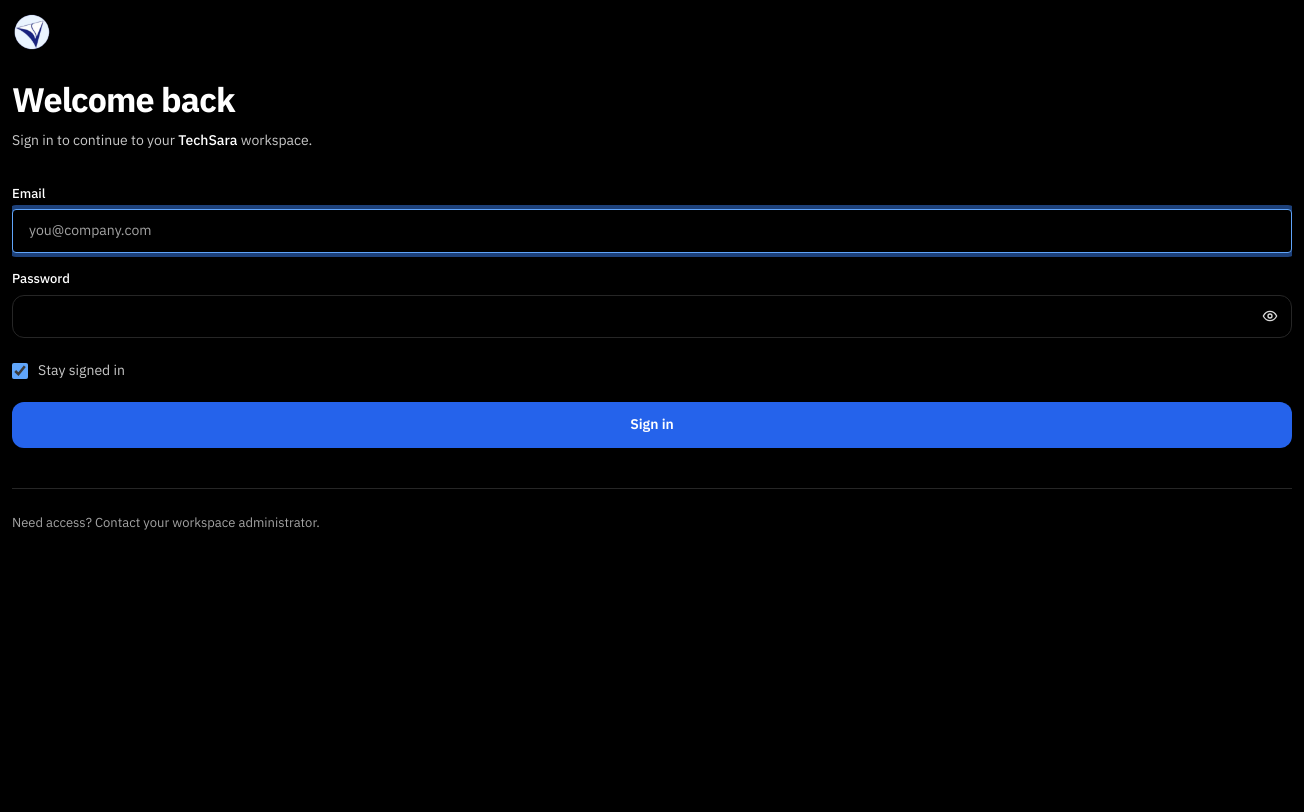
it: login submit › shows the 401 detail verbatim as a role="alert" error
The width and height of the screenshot is (1304, 812).
Type "naman@techsara.com" into the field labelled "Email" at (652, 231), box [12,209,1292,253]
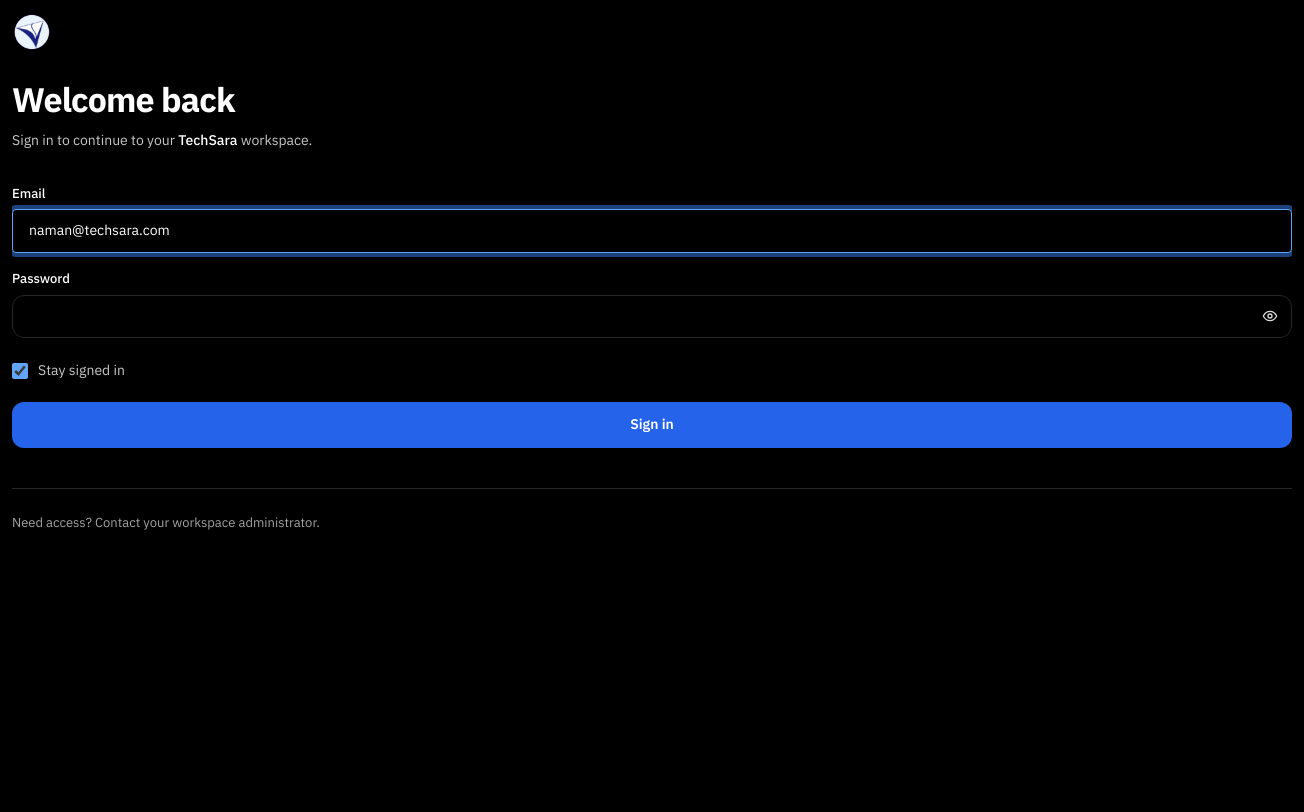
Type "wrong-password" into the password field labelled "Password" at (652, 316), box [12,294,1292,338]
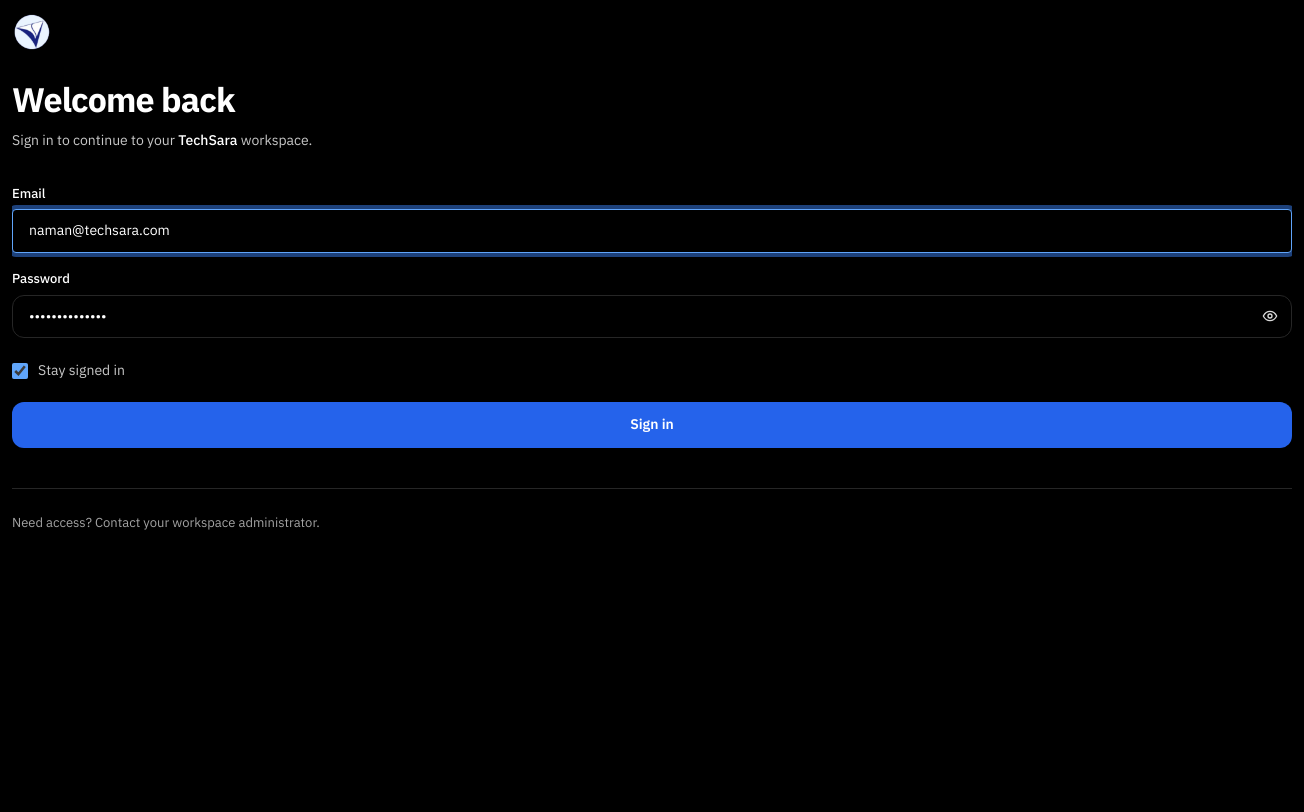
Click the button "Sign in" at (652, 425), box [12,402,1292,448]
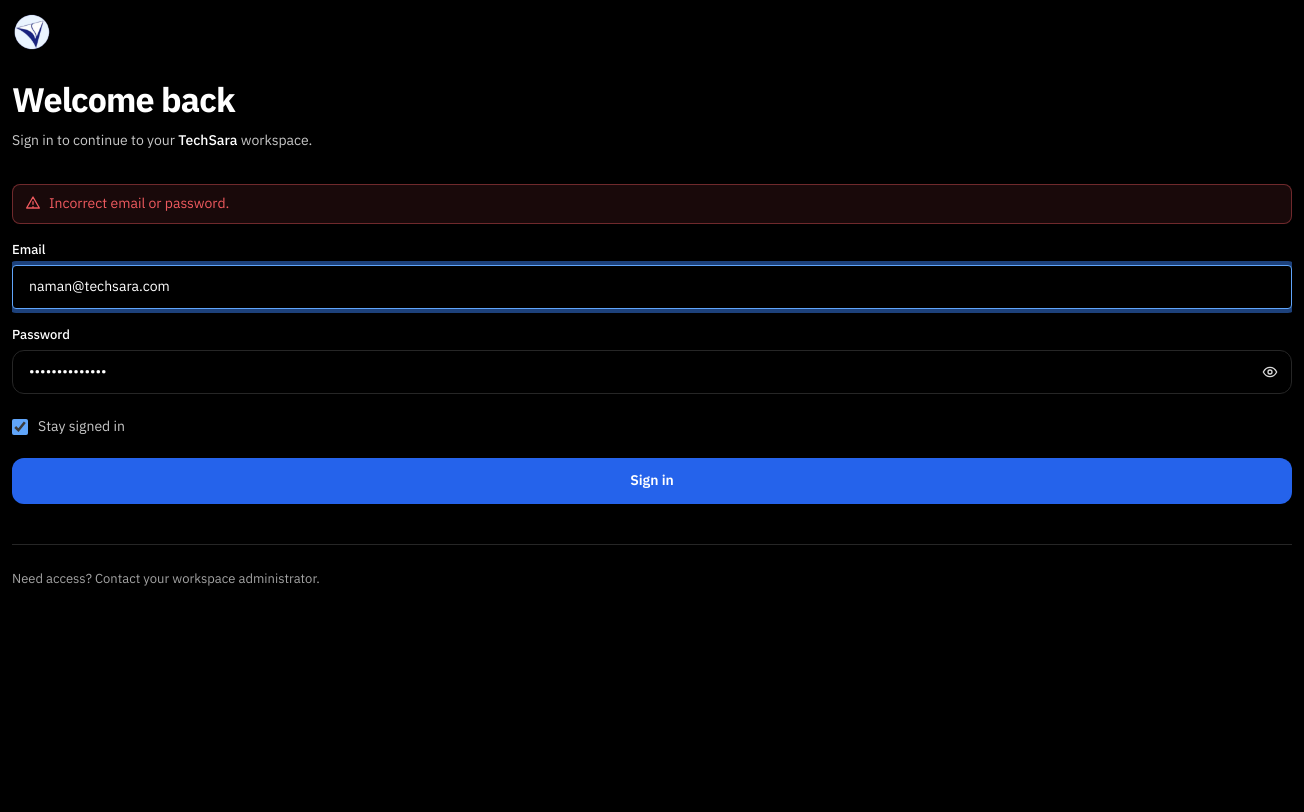
Check: the message reads "Incorrect email or password.", box [49,194,229,212]
